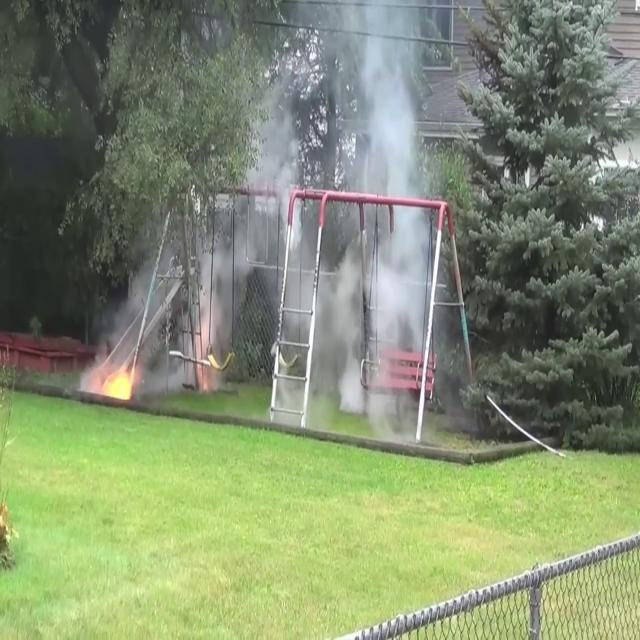Fire: (96, 354, 140, 410)
Smoke: (206, 5, 439, 387)
